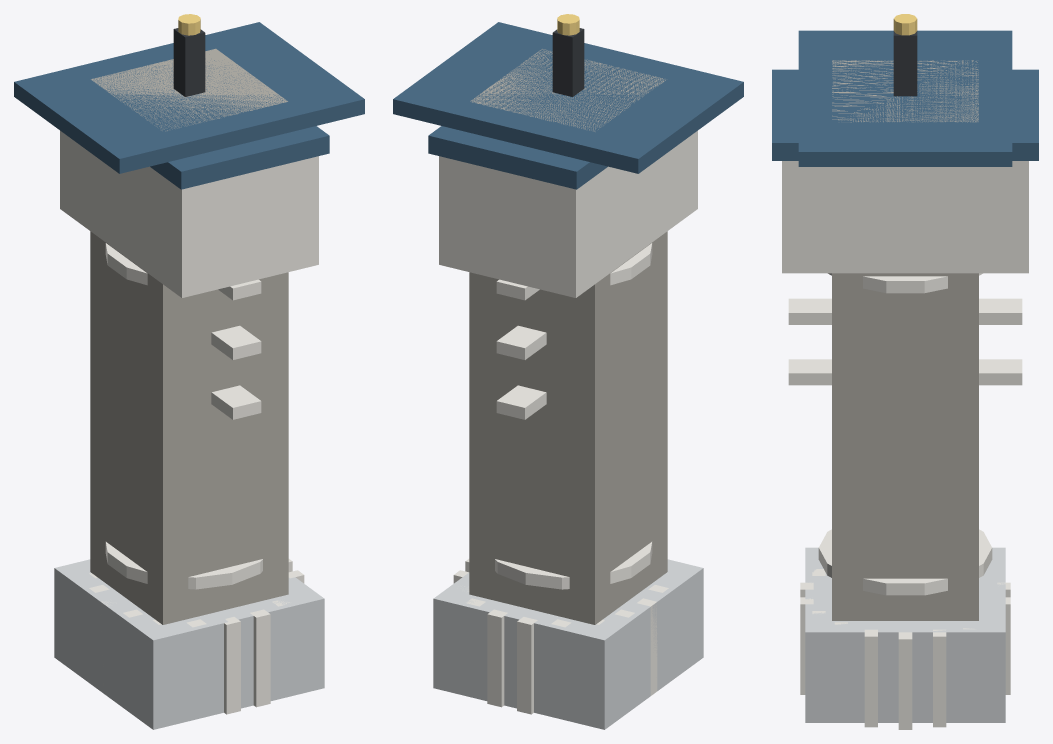
File: BLD_ControlTower.fbx
The picture shows the model from 3 angles, left to right: view 1: azimuth 30°, elevation 25°; view 2: azimuth 150°, elevation 25°; view 3: azimuth 270°, elevation 25°; orthographic projection.
Visible parts, largest first — view 1: BLD_ControlTower__BODY, BLD_ControlTower__COL_Main; view 2: BLD_ControlTower__BODY, BLD_ControlTower__COL_Main; view 3: BLD_ControlTower__BODY, BLD_ControlTower__COL_Main.
Part boxes in pixels (<box>): BLD_ControlTower__BODY: <box>14,14,364,729</box>; BLD_ControlTower__COL_Main: <box>90,48,288,624</box>; BLD_ControlTower__BODY: <box>393,14,743,729</box>; BLD_ControlTower__COL_Main: <box>469,49,667,624</box>; BLD_ControlTower__BODY: <box>772,14,1038,729</box>; BLD_ControlTower__COL_Main: <box>832,60,978,620</box>.
Size of the model in its own units: 8.6 by 21.9 by 8.
